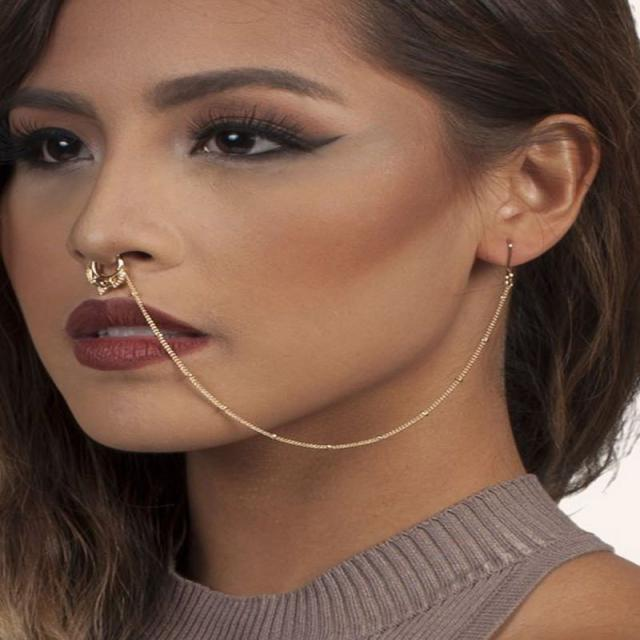Earring: (481, 229, 526, 289)
